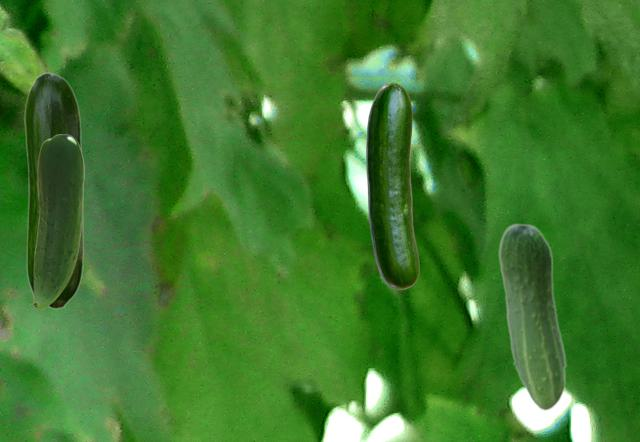cucumber: (24, 72, 83, 308), (498, 222, 566, 410), (366, 83, 418, 288), (33, 134, 83, 308)
